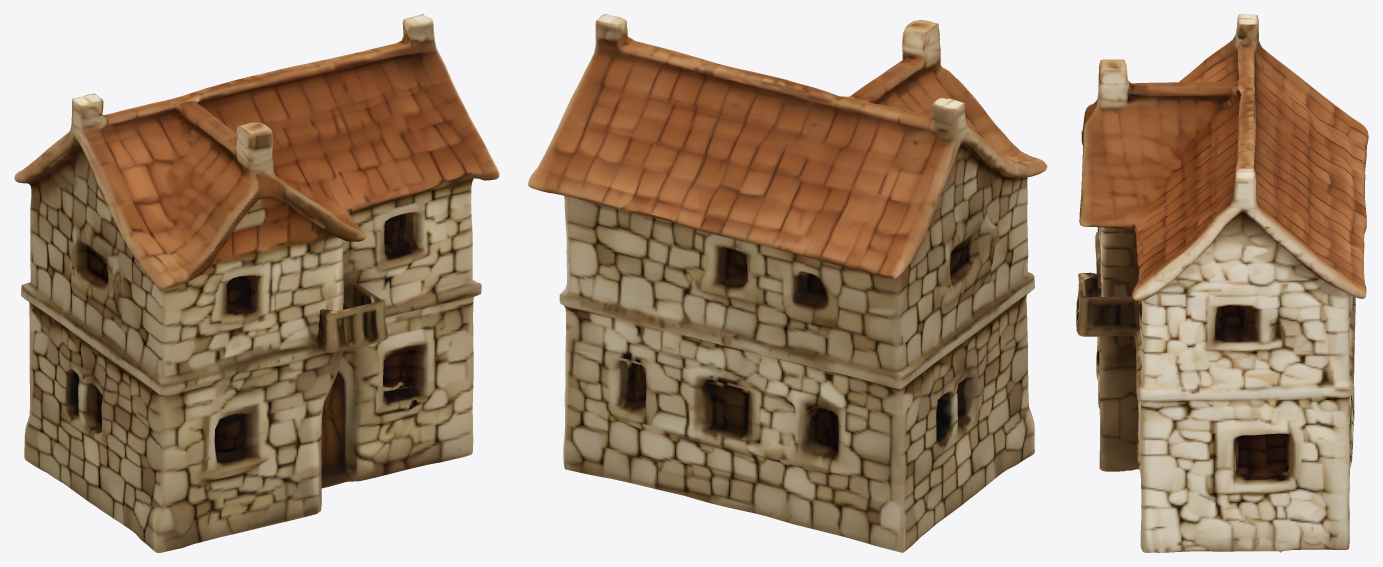
File: base_basic_shaded.fbx
3 views of the same model, side by side, from view 1: azimuth 30°, elevation 25°; view 2: azimuth 150°, elevation 25°; view 3: azimuth 270°, elevation 25° (orthographic). The views are drawn at different scales.
Visible parts, largest first — view 1: model; view 2: model; view 3: model.
Boxes of the visible parts, left/top/right/bottom form: model: left=14, top=14, right=499, bottom=552; model: left=528, top=14, right=1047, bottom=552; model: left=1076, top=14, right=1368, bottom=552.
Bounding box in the file's own units: 184 × 189 × 132.
